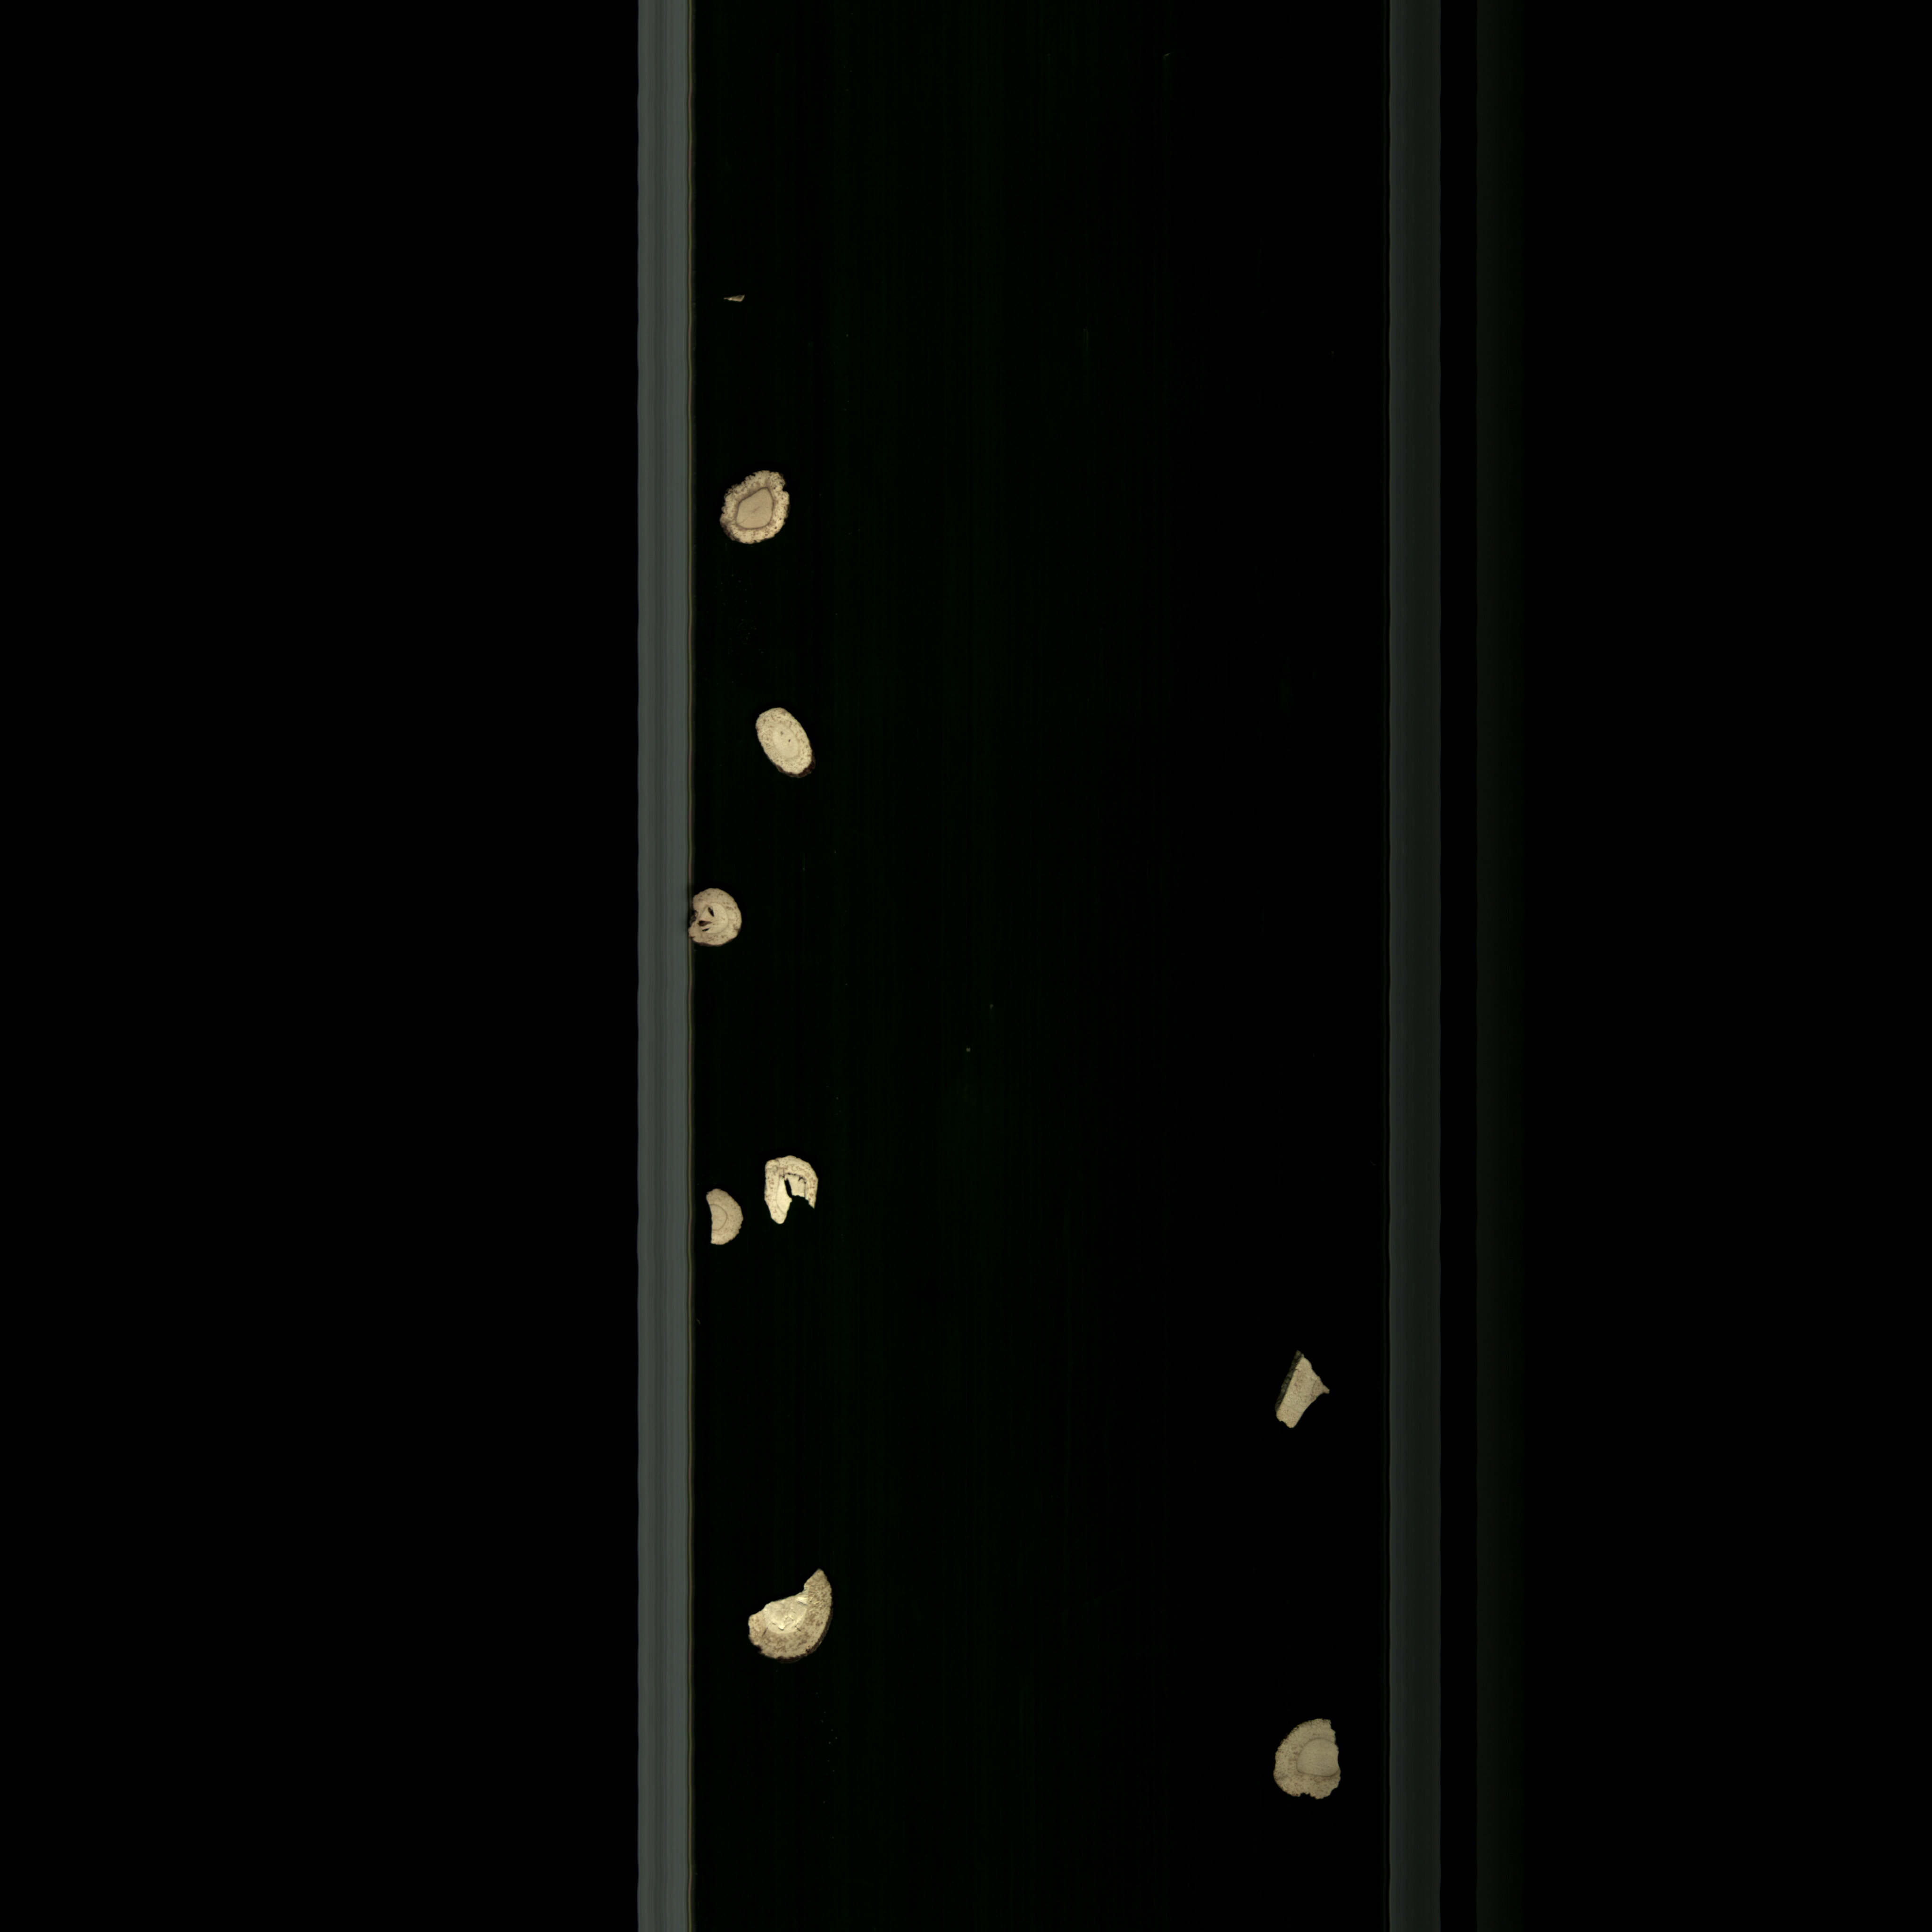debris: (1249, 1704, 1357, 1812), (747, 1569, 830, 1679), (702, 1182, 743, 1254)
distortion: (1269, 1341, 1352, 1433), (750, 704, 819, 784)
hole: (688, 876, 755, 952), (766, 1152, 826, 1233)
moldy: (709, 460, 800, 559)
